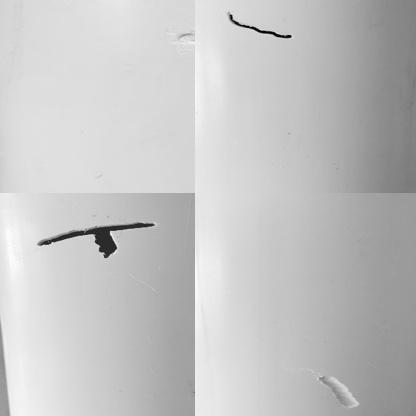fengxi: (31, 222, 173, 243), (224, 9, 293, 39)
kongdong: (90, 231, 125, 255)
sunshang: (310, 372, 367, 411), (166, 26, 197, 49)
